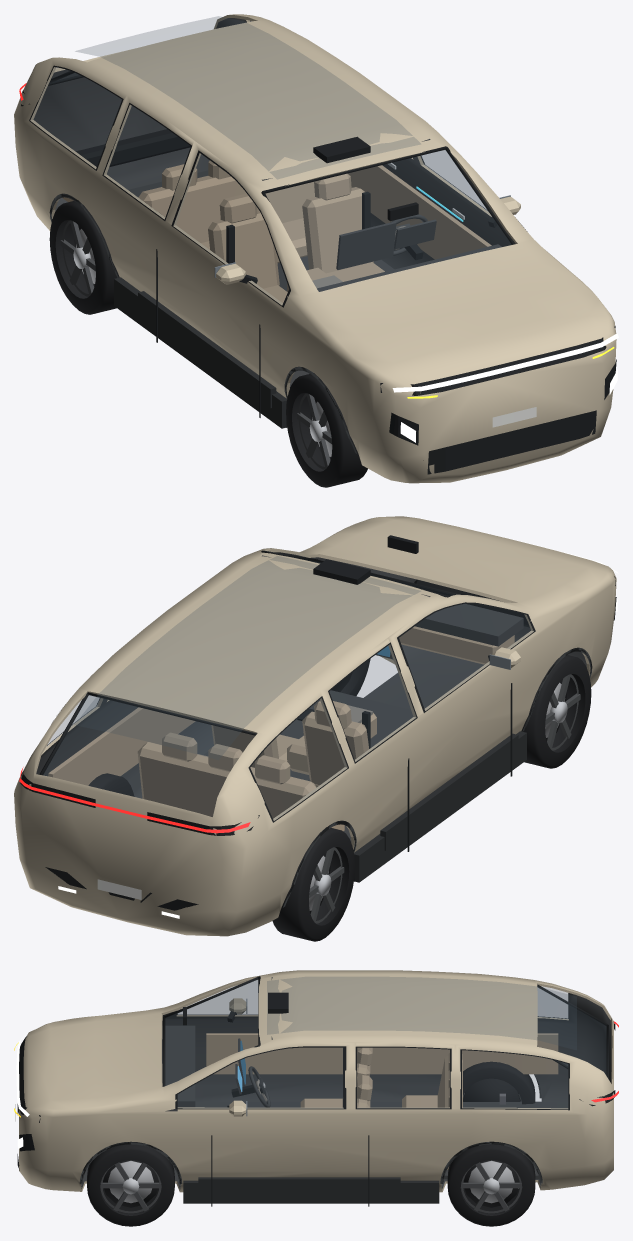
3 renders of one model, top to bottom at view 1: azimuth 30°, elevation 25°; view 2: azimuth 150°, elevation 25°; view 3: azimuth 270°, elevation 25°, orthographic. The views are drawn at different scales.
Parts seen in each view (by area): view 1: Body, Surface_CarRoot_Glass, Interior_CarRoot_InteriorLeather, Surface_CarRoot_BlackTrim, Surface_CarRoot_Cladding, Surface_WheelFrontR_Tyre, Interior_CarRoot_InteriorDark, Surface_WheelRearR_Tyre, Surface_CarRoot_Headlight, Interior_CarRoot_BlackTrim, Surface_WheelFrontR_Rim, Surface_WheelRearR_Rim (+1 smaller); view 2: Body, Surface_CarRoot_Glass, Interior_CarRoot_InteriorLeather, Surface_CarRoot_BlackTrim, Surface_CarRoot_Cladding, Interior_CarRoot_InteriorDark, Surface_WheelRearR_Tyre, Surface_WheelFrontR_Tyre, Surface_WheelRearR_Rim, Surface_WheelFrontR_Rim, Surface_CarRoot_Taillight, Interior_CarRoot_BlackTrim (+2 smaller); view 3: Body, Surface_CarRoot_Glass, Interior_CarRoot_InteriorLeather, Surface_CarRoot_Cladding, Surface_CarRoot_BlackTrim, Surface_WheelRearL_Tyre, Surface_WheelFrontL_Tyre, Interior_CarRoot_InteriorDark, Surface_WheelRearR_Tyre, Surface_WheelRearL_Rim, Surface_WheelFrontL_Rim, WheelFrontL_BrakeDisc (+2 smaller).
Part boxes in pixels (bbox=[...]): Body: bbox=[14, 14, 616, 483]; Surface_CarRoot_Glass: bbox=[31, 16, 511, 304]; Interior_CarRoot_InteriorLeather: bbox=[62, 160, 491, 302]; Surface_CarRoot_BlackTrim: bbox=[21, 21, 616, 474]; Surface_CarRoot_Cladding: bbox=[49, 193, 356, 453]; Surface_WheelFrontR_Tyre: bbox=[286, 373, 367, 487]; Interior_CarRoot_InteriorDark: bbox=[55, 139, 501, 387]; Surface_WheelRearR_Tyre: bbox=[49, 200, 119, 314]; Surface_CarRoot_Headlight: bbox=[392, 333, 618, 442]; Interior_CarRoot_BlackTrim: bbox=[226, 191, 423, 263]; Surface_WheelFrontR_Rim: bbox=[297, 393, 331, 469]; Surface_WheelRearR_Rim: bbox=[60, 220, 95, 296]; Body: bbox=[14, 516, 616, 936]; Surface_CarRoot_Glass: bbox=[43, 556, 532, 819]; Interior_CarRoot_InteriorLeather: bbox=[48, 626, 514, 831]; Surface_CarRoot_BlackTrim: bbox=[20, 550, 616, 910]; Surface_CarRoot_Cladding: bbox=[283, 647, 592, 907]; Interior_CarRoot_InteriorDark: bbox=[203, 555, 523, 842]; Surface_WheelRearR_Tyre: bbox=[272, 827, 354, 941]; Surface_WheelFrontR_Tyre: bbox=[521, 654, 591, 768]; Surface_WheelRearR_Rim: bbox=[309, 847, 344, 923]; Surface_WheelFrontR_Rim: bbox=[545, 674, 580, 750]; Surface_CarRoot_Taillight: bbox=[19, 767, 250, 833]; Interior_CarRoot_BlackTrim: bbox=[297, 535, 418, 748]; Body: bbox=[19, 970, 613, 1192]; Surface_CarRoot_Glass: bbox=[165, 977, 606, 1108]; Interior_CarRoot_InteriorLeather: bbox=[206, 1033, 558, 1169]; Surface_CarRoot_Cladding: bbox=[79, 1074, 542, 1203]; Surface_CarRoot_BlackTrim: bbox=[17, 976, 615, 1206]; Surface_WheelRearL_Tyre: bbox=[447, 1144, 535, 1226]; Surface_WheelFrontL_Tyre: bbox=[87, 1144, 174, 1226]; Interior_CarRoot_InteriorDark: bbox=[162, 977, 568, 1179]; Surface_WheelRearR_Tyre: bbox=[463, 1061, 535, 1104]; Surface_WheelRearL_Rim: bbox=[460, 1162, 522, 1213]; Surface_WheelFrontL_Rim: bbox=[100, 1162, 161, 1213]; WheelFrontL_BrakeDisc: bbox=[108, 1160, 153, 1203].
Bounding box in the file's own units: 2.32 × 1.75 × 5.32.
